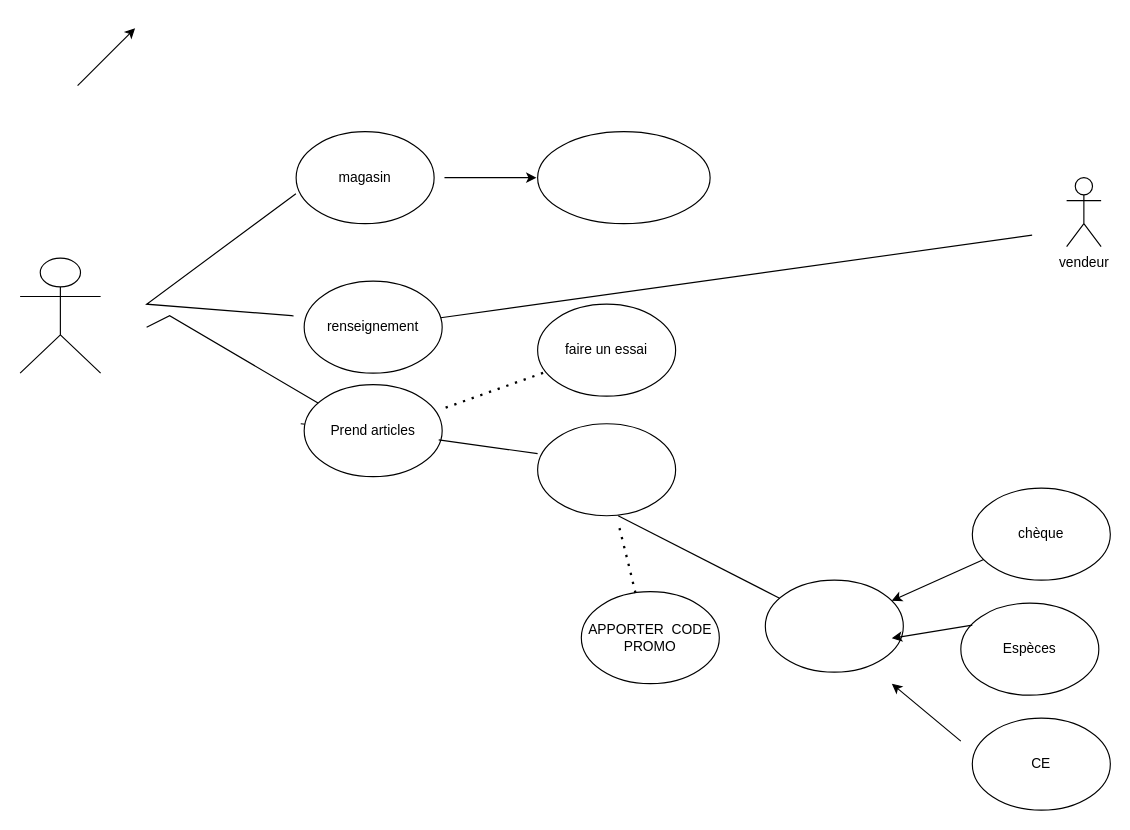
The diagram is 1130 pixels wide and 830 high, and some of its shapes have lost their labels. The shapes that lost their labels are listed below. From the top down, each one's centre as x and y in pixels, then its label:
At (623,177): "rayon".
At (60,315): "clients".
At (606,469): "faire achat".
At (833,625): "paye".
